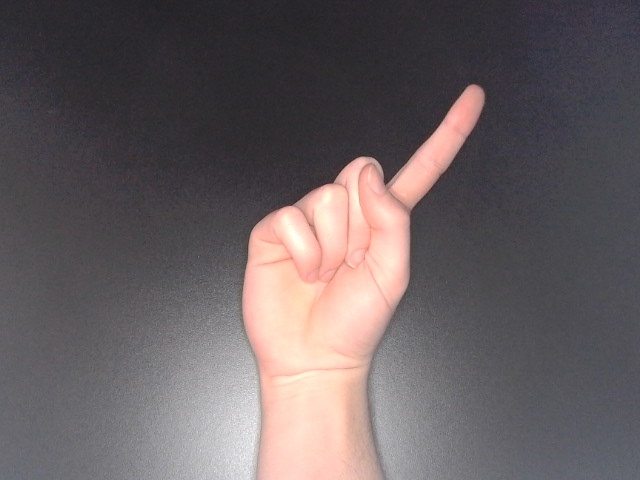z: (235, 80, 488, 399)
